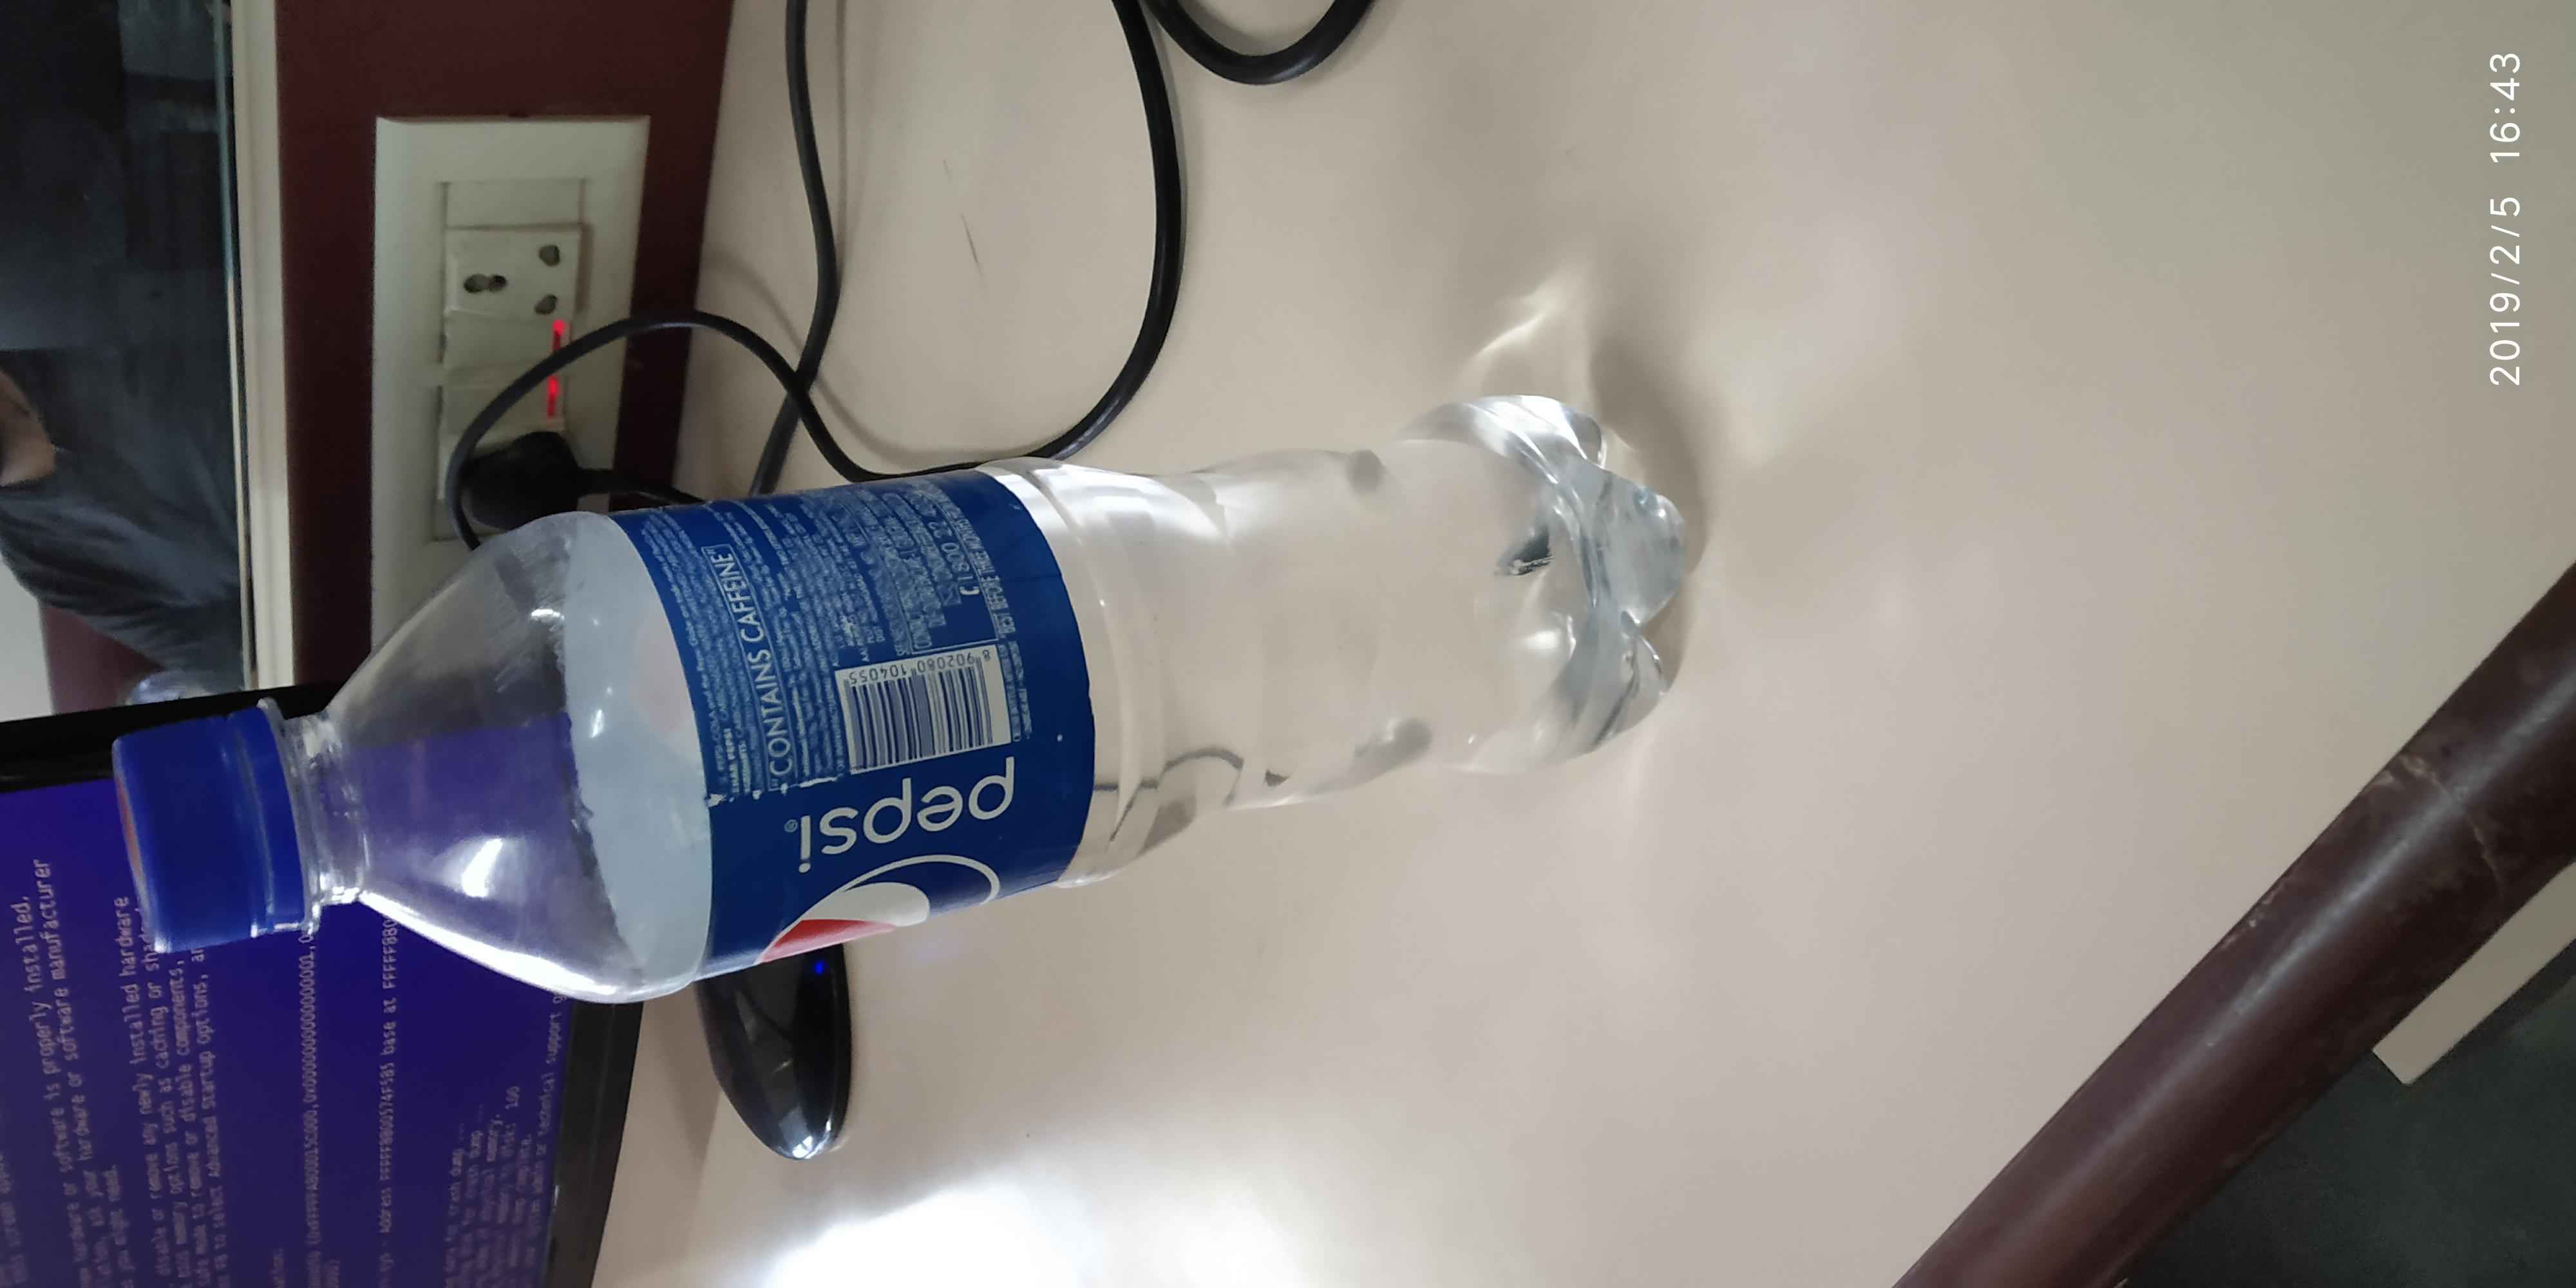pepsi: (728, 748, 1050, 976)
